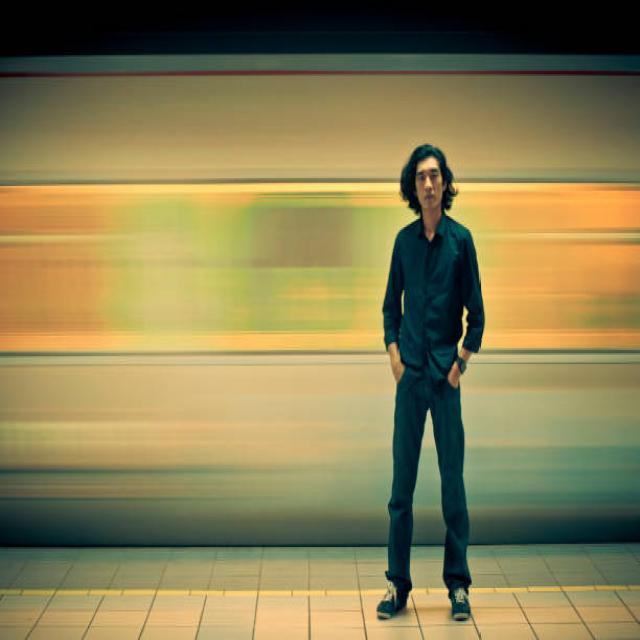stand: (389, 131, 479, 618)
